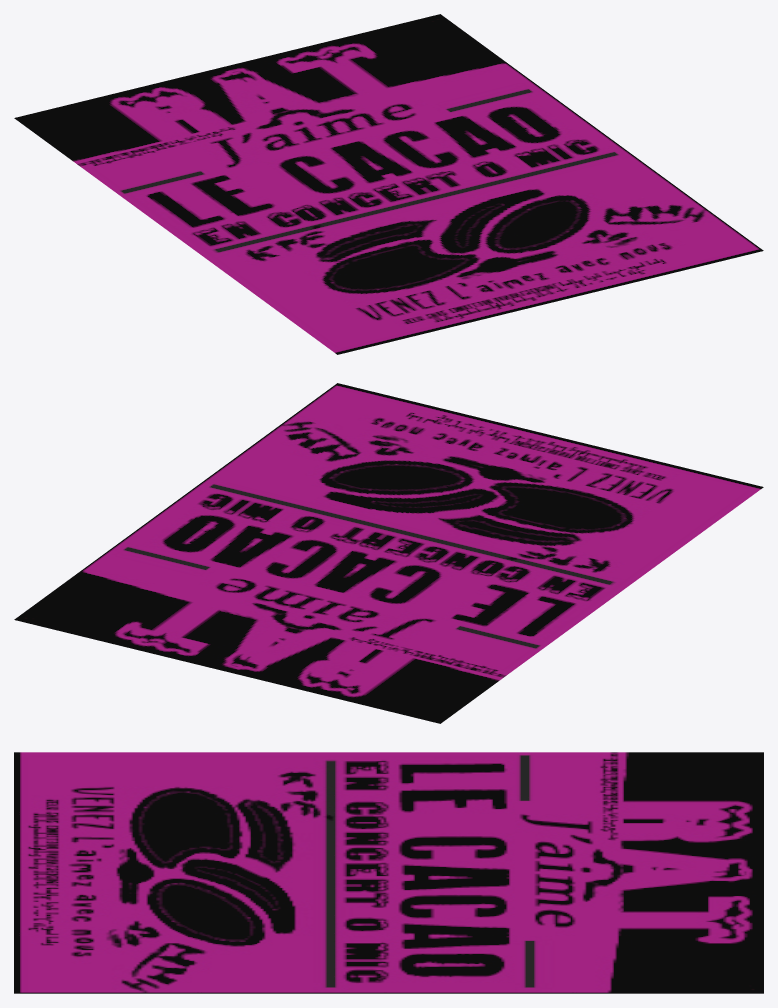
The model's file is Poster03.fbx.
3 renders of one model, top to bottom at view 1: azimuth 30°, elevation 25°; view 2: azimuth 150°, elevation 25°; view 3: azimuth 270°, elevation 25°, orthographic. The views are drawn at different scales.
Visible parts, largest first — view 1: Poster03; view 2: Poster03; view 3: Poster03.
Part boxes in pixels (x1=…): Poster03: x1=14, y1=14, x2=763, y2=354; Poster03: x1=14, y1=383, x2=763, y2=723; Poster03: x1=14, y1=752, x2=763, y2=993.
Size of the model in its own units: 43.23 by 0 by 56.81.
1 material, 1 textured.
